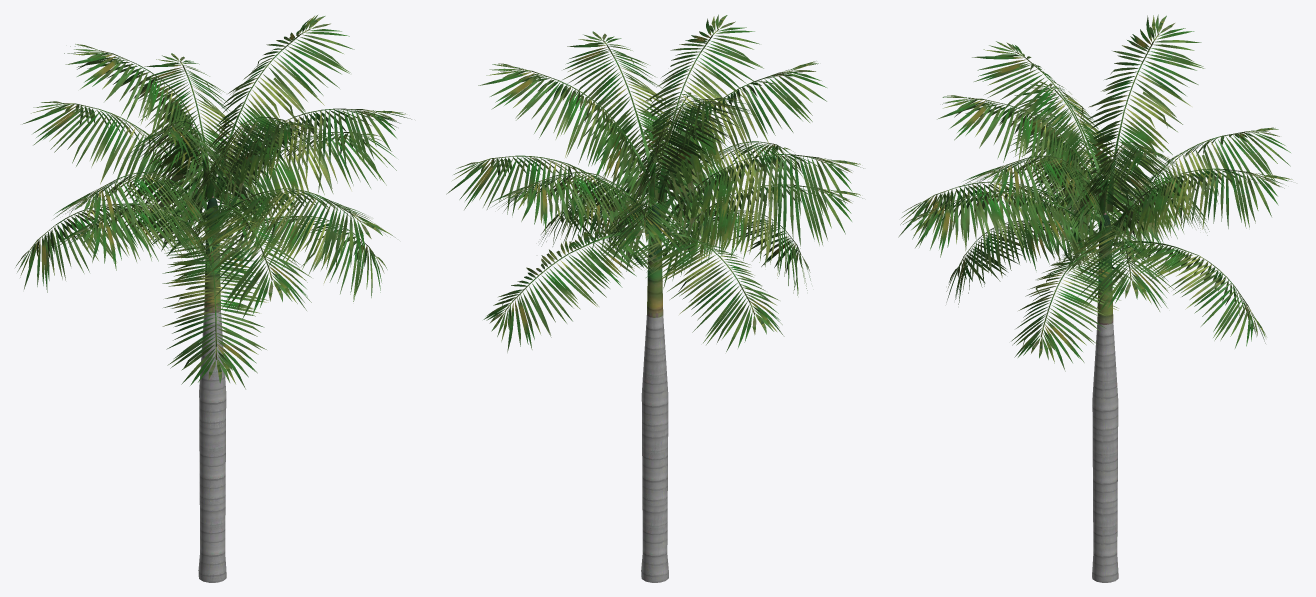
The model's file is palma_real.glb.
3 views of the same model, side by side, from view 1: azimuth 30°, elevation 25°; view 2: azimuth 150°, elevation 25°; view 3: azimuth 270°, elevation 25° (orthographic). The views are drawn at different scales.
Visible parts, largest first — view 1: Mesh1 coco_leaf1 Component_222_1 W3D_Palma_real___Yoshi_Prod, Mesh259 Group_29_1 Component_222_1 W3D_Palma_real___Yoshi_Pr; view 2: Mesh1 coco_leaf1 Component_222_1 W3D_Palma_real___Yoshi_Prod, Mesh259 Group_29_1 Component_222_1 W3D_Palma_real___Yoshi_Pr; view 3: Mesh1 coco_leaf1 Component_222_1 W3D_Palma_real___Yoshi_Prod, Mesh259 Group_29_1 Component_222_1 W3D_Palma_real___Yoshi_Pr.
Boxes of the visible parts, bbox=[...] form: Mesh1 coco_leaf1 Component_222_1 W3D_Palma_real___Yoshi_Prod: bbox=[15, 15, 411, 389]; Mesh259 Group_29_1 Component_222_1 W3D_Palma_real___Yoshi_Pr: bbox=[198, 196, 226, 582]; Mesh1 coco_leaf1 Component_222_1 W3D_Palma_real___Yoshi_Prod: bbox=[446, 14, 863, 352]; Mesh259 Group_29_1 Component_222_1 W3D_Palma_real___Yoshi_Pr: bbox=[641, 203, 668, 582]; Mesh1 coco_leaf1 Component_222_1 W3D_Palma_real___Yoshi_Prod: bbox=[898, 14, 1292, 371]; Mesh259 Group_29_1 Component_222_1 W3D_Palma_real___Yoshi_Pr: bbox=[1092, 212, 1118, 582].
Bounding box in the file's own units: 4.62 × 6.42 × 4.59.
Materials: 4 (3 with a texture image).
